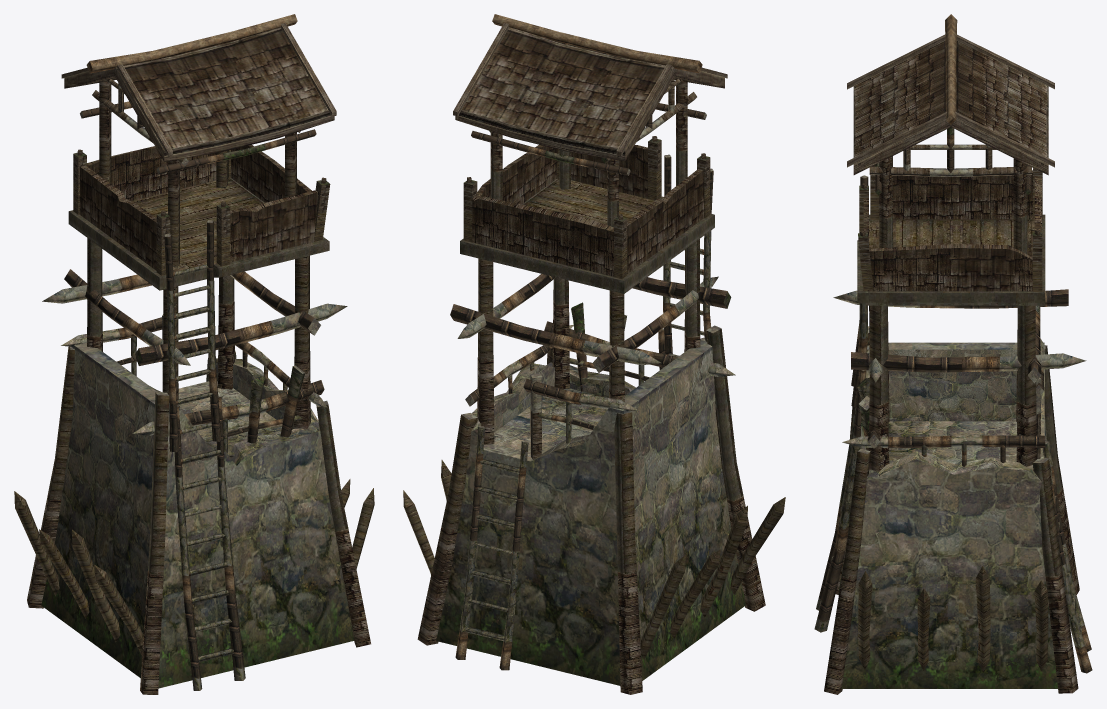
File: bigmap_shaota.FBX
3 renders of one model, left to right at view 1: azimuth 30°, elevation 25°; view 2: azimuth 150°, elevation 25°; view 3: azimuth 270°, elevation 25°, orthographic. The views are drawn at different scales.
Parts seen in each view (by area): view 1: shaosuo004_dqg01; view 2: shaosuo004_dqg01; view 3: shaosuo004_dqg01.
Boxes of the visible parts, x1,y1,x2,y2 form: shaosuo004_dqg01: (14,14,374,694); shaosuo004_dqg01: (403,14,785,694); shaosuo004_dqg01: (814,14,1092,694).
Bounding box in the file's own units: 1.03 × 0.8661 × 1.98.
